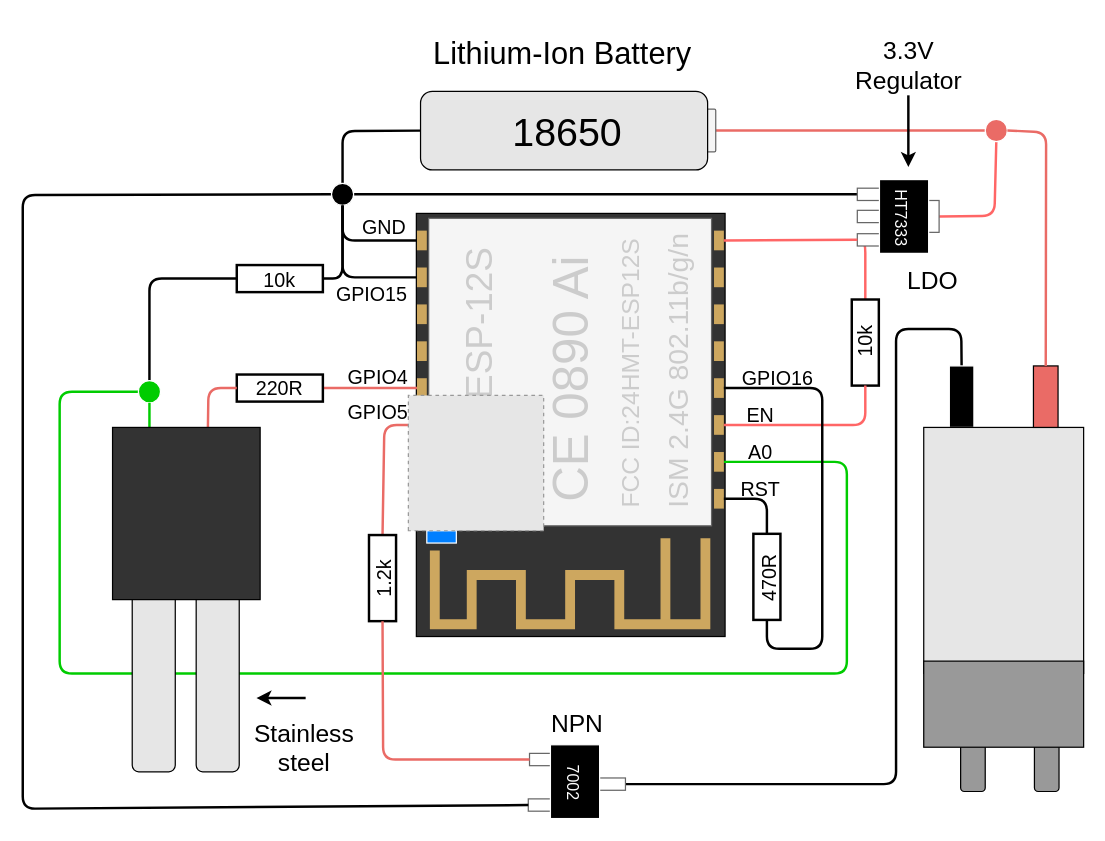
Some shapes in this 1105 by 841 pixel diagram are drawn without their labels. Grey dashed boxes stand in for pictures. The box of each missing label's shape, as (x1, y1, x2, y2) in pixels:
DC Motor: (922, 426, 1084, 673)
Pump: (922, 660, 1084, 747)
